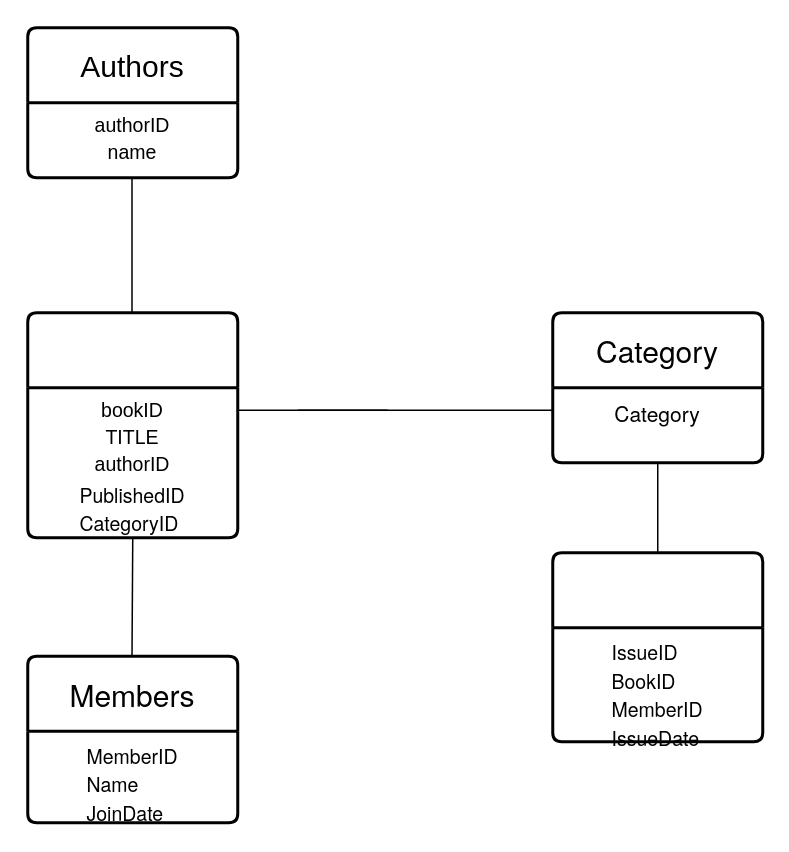
This 789x852 diagram has some shape labels left out. Each missing label, with the box of its shape:
Books: (26, 310, 238, 538)
IssuedBooks: (550, 550, 764, 742)
